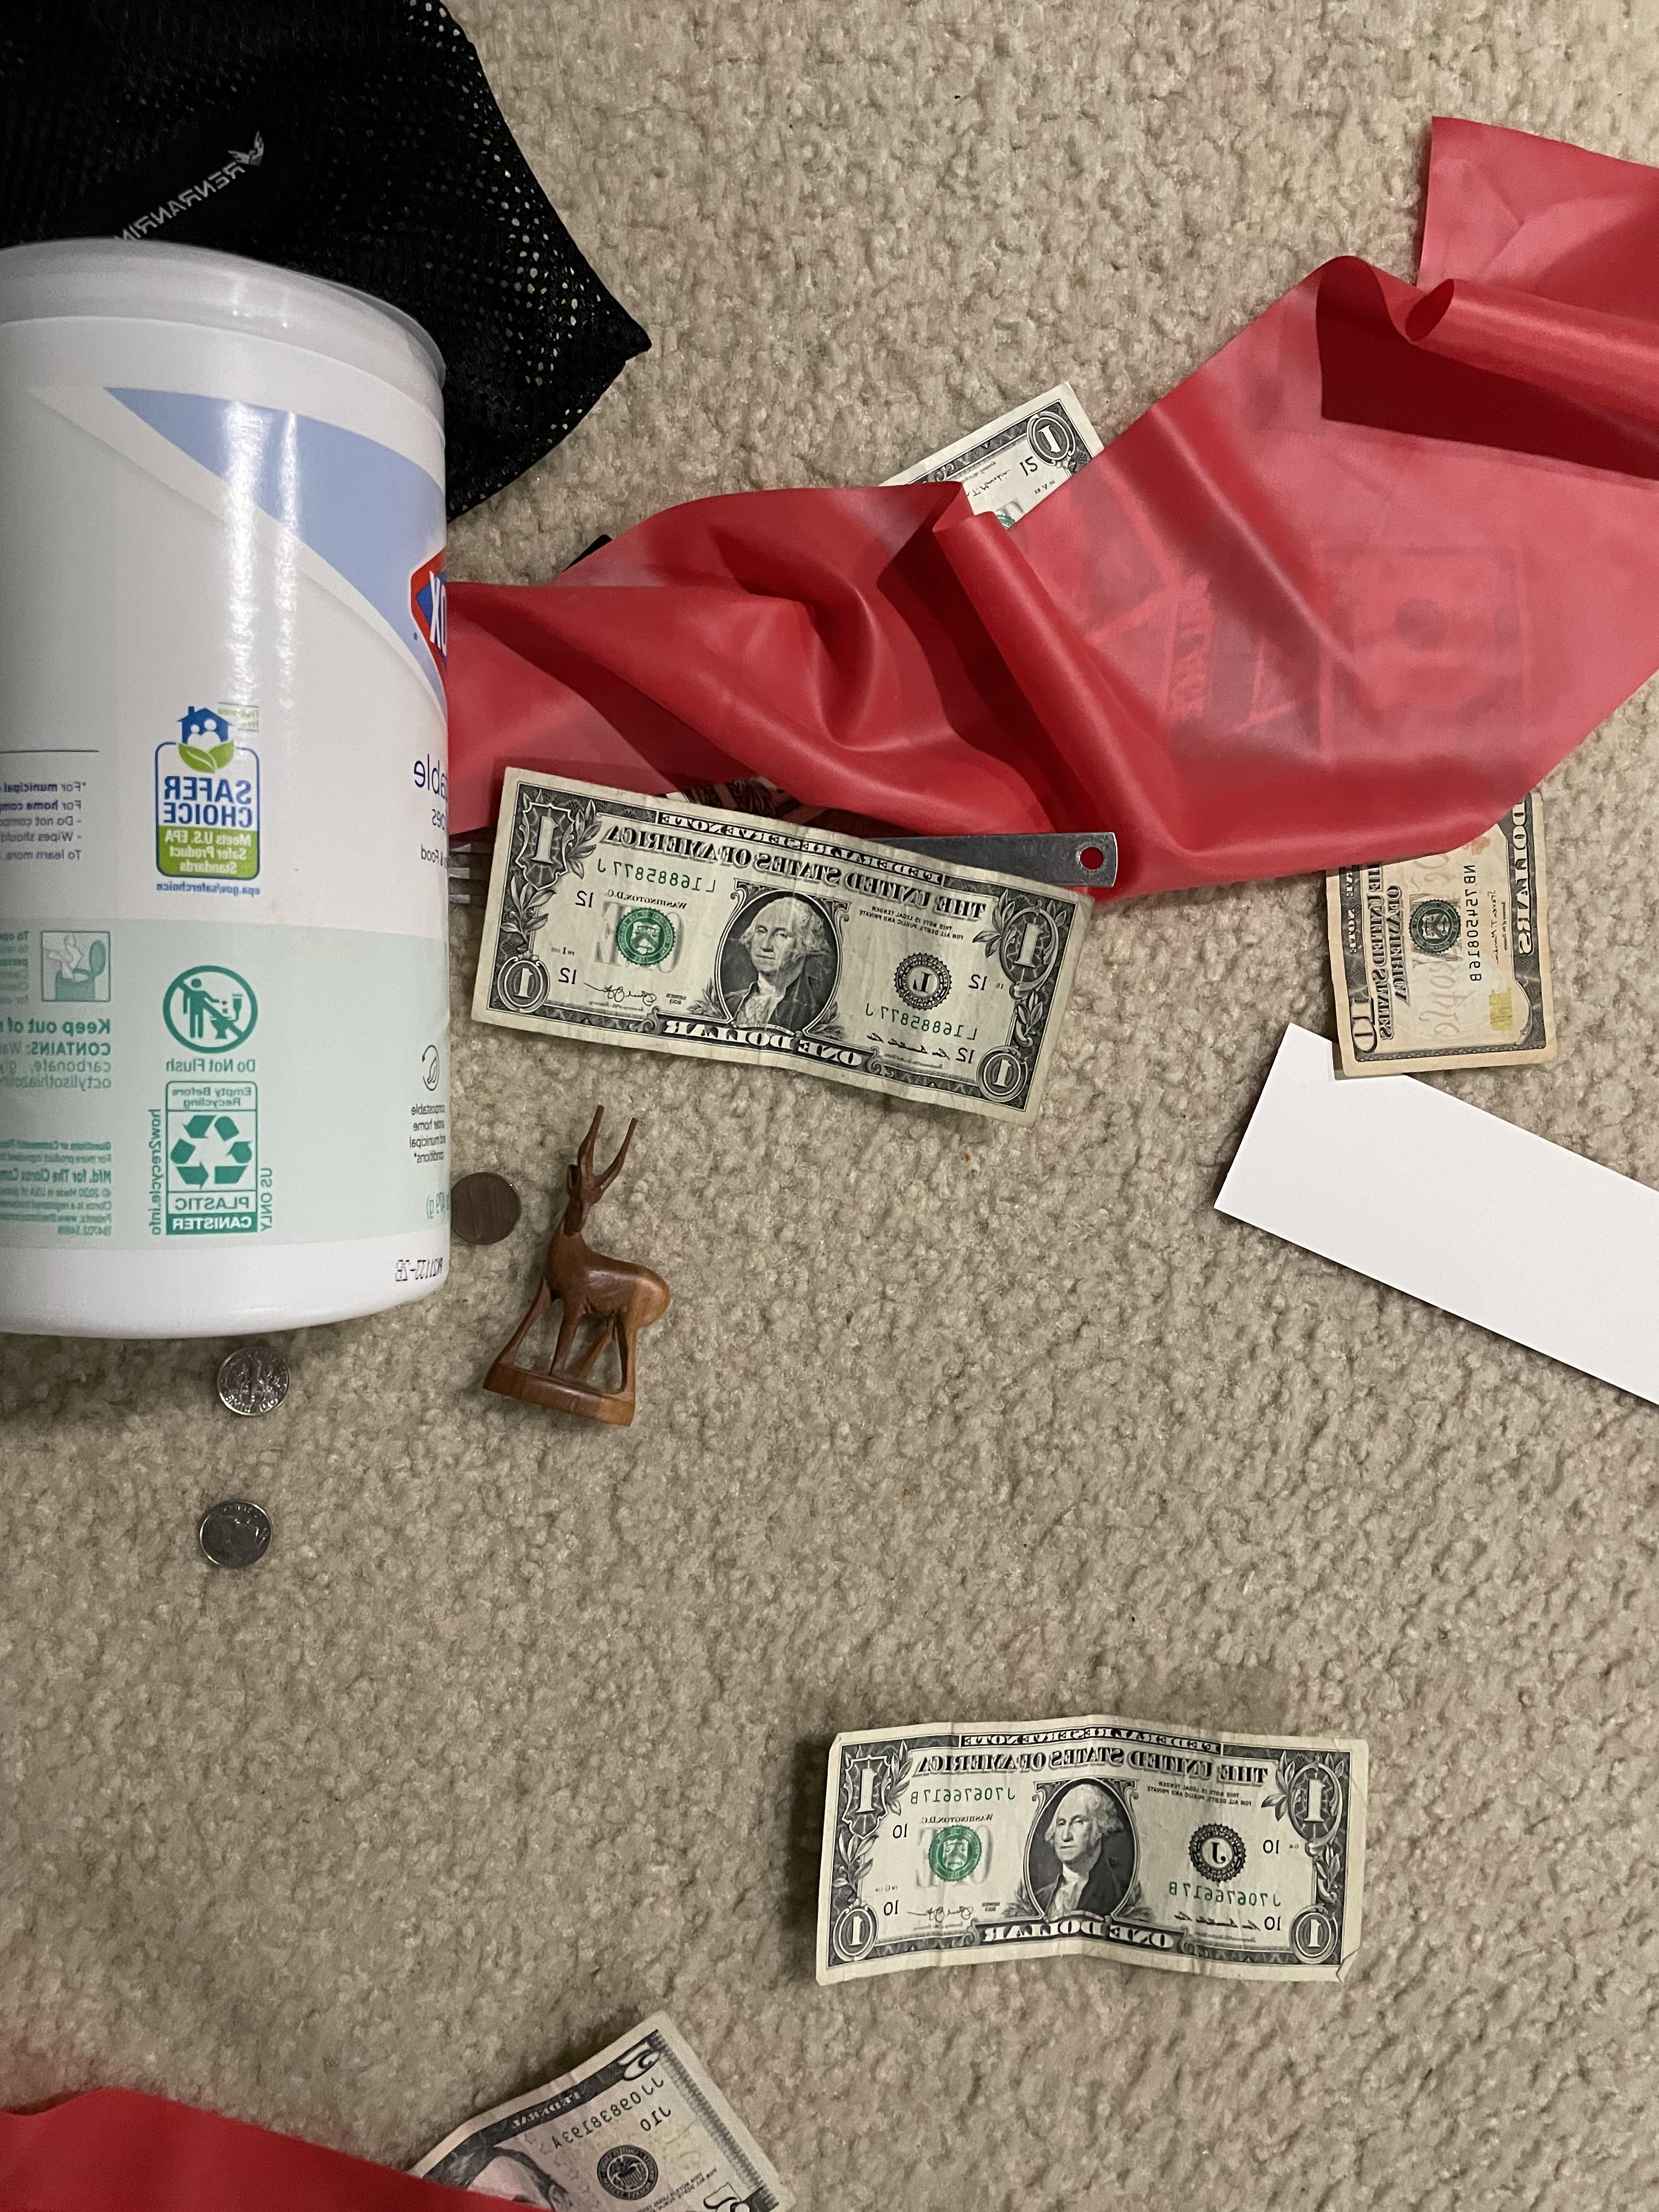Dime: (192, 1482, 296, 1585), (207, 1338, 301, 1418)
OneBill: (467, 745, 1093, 1123), (798, 1705, 1375, 1996)
Penny: (437, 1151, 518, 1264)
TenBill: (1283, 502, 1547, 1078)
